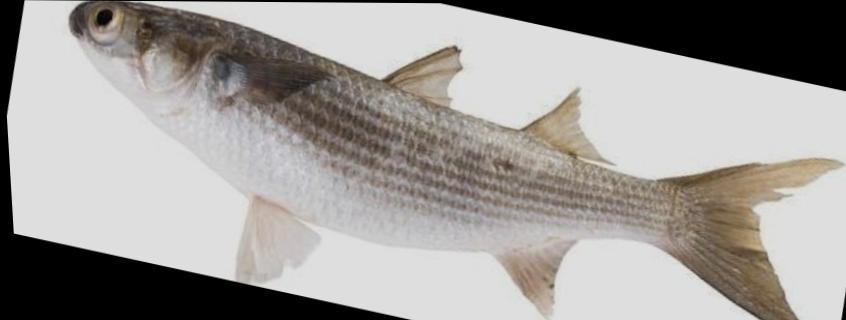fish: (64, 1, 843, 320)
